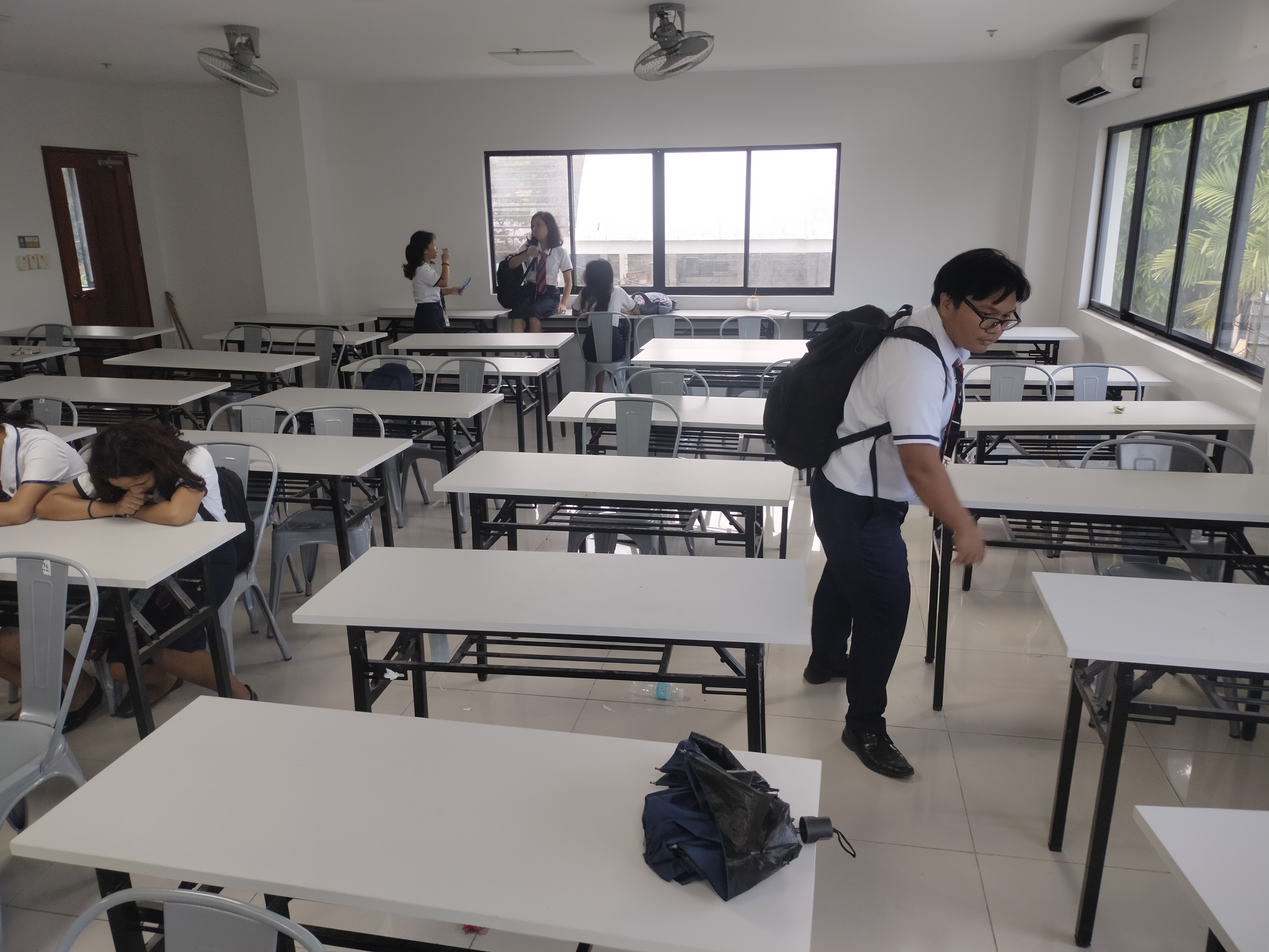with-student: (0, 381, 256, 641)
